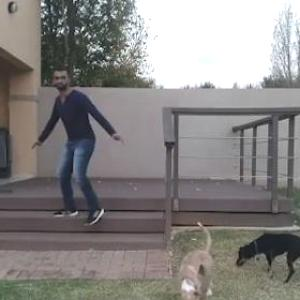land: (40, 68, 115, 232)
